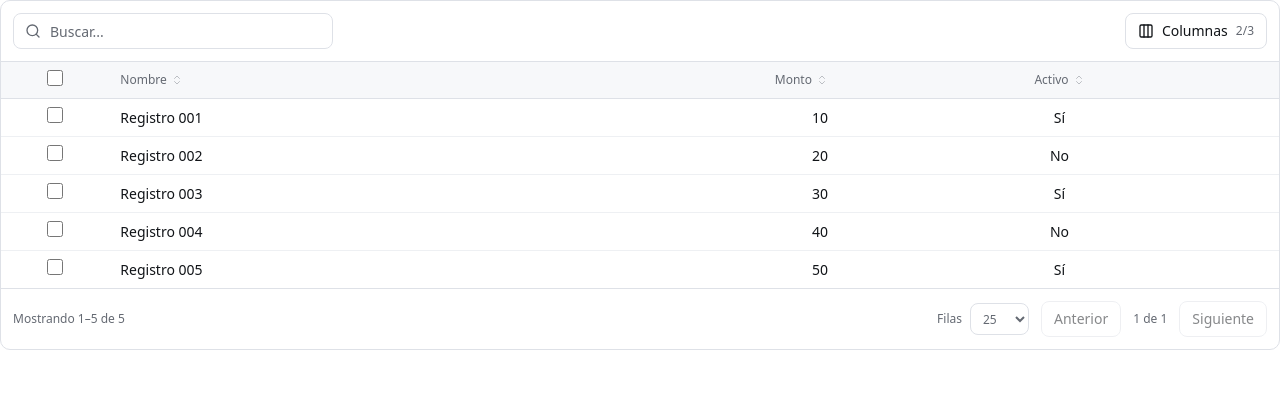
Test case: Selección de filas › informa una fila seleccionada en singular
Step 1. Click the checkbox named "Seleccionar fila" next to "Registro 001" → click(55, 115), box [47,107,63,123]
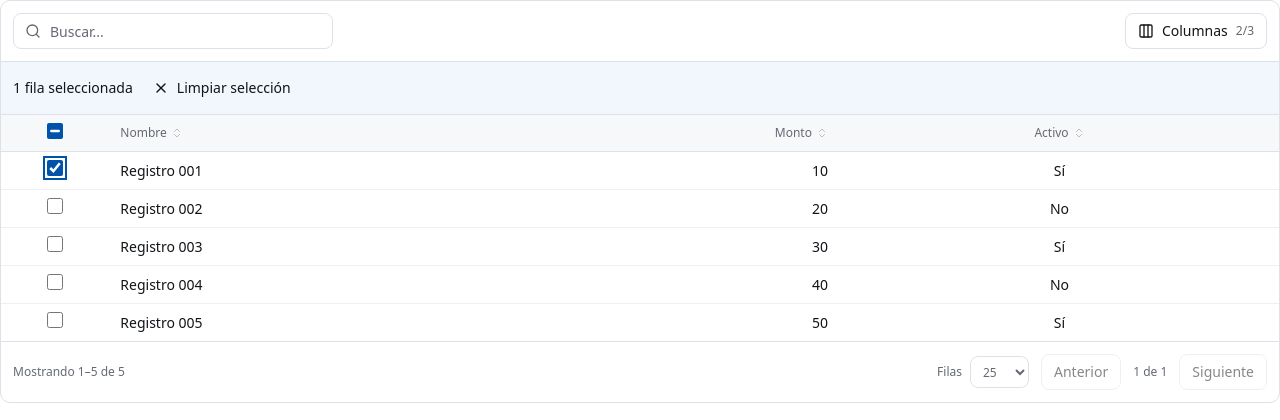
Now the text "1 fila seleccionada" is shown, box [13,78,133,98]
